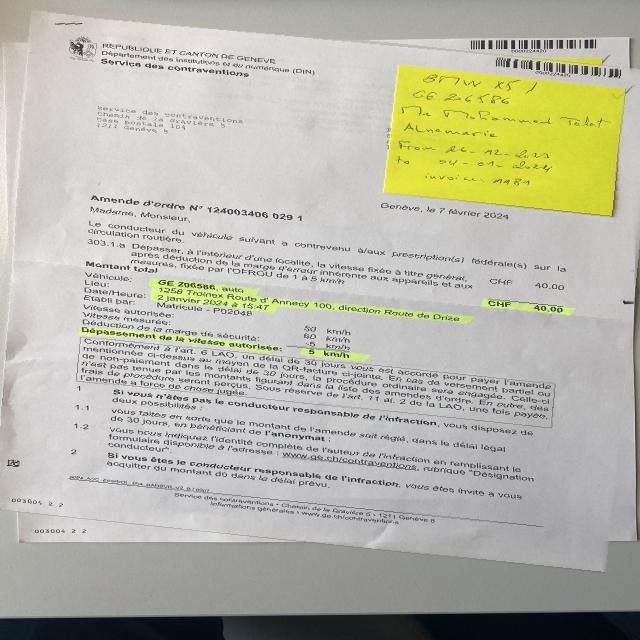paper-document-: (0, 12, 640, 571)
